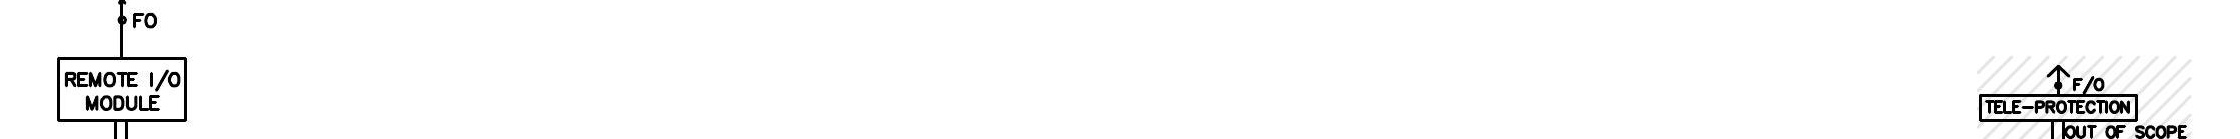remote_io_module: (56, 57, 187, 123)
tele_protection: (1979, 93, 2139, 123)
